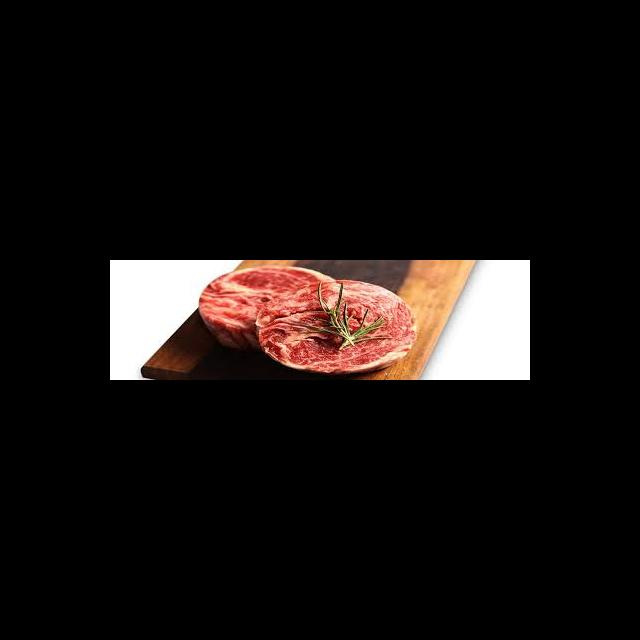beef: (257, 279, 419, 372), (199, 265, 337, 344)
